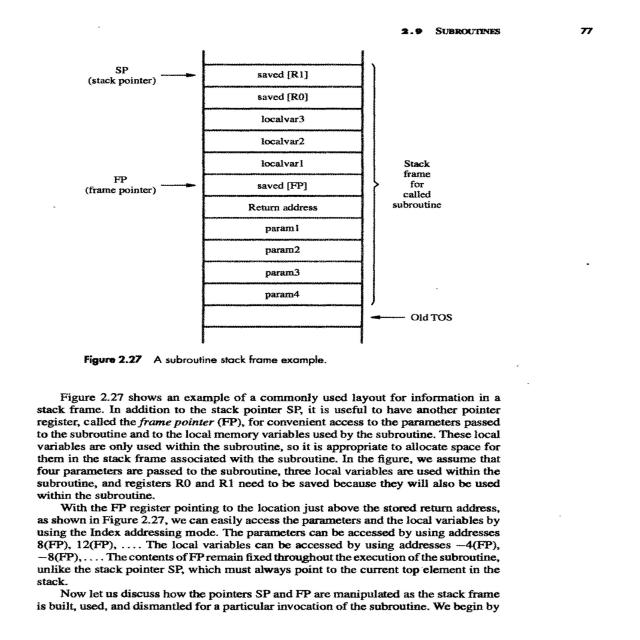diagram: (0, 39, 479, 378)
